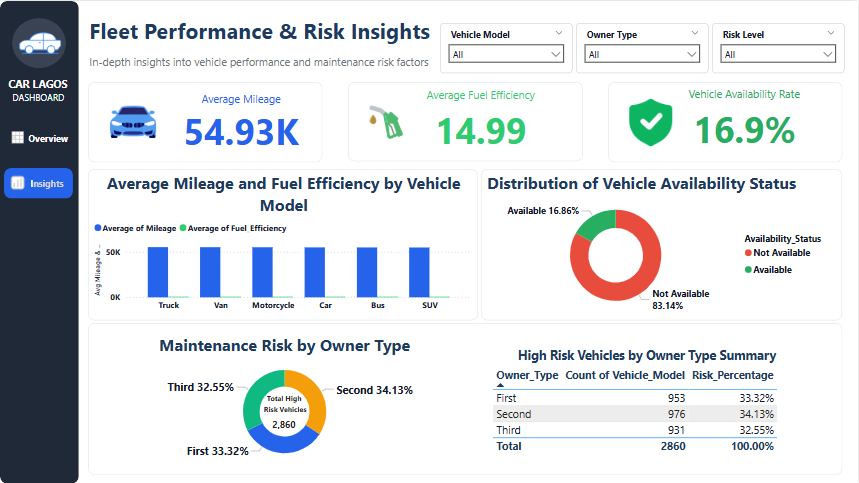

The dashboard page shown, as its layout file describes it:
{"tool":"powerbi","page":{"name":"Page 2","canvas":[1280,720],"ordinal":1},"visuals":[{"type":"shape","box":[0,0,117.6,720],"z":0,"group":"g1"},{"type":"clusteredColumnChart","title":"Average Mileage and Fuel Efficiency by Vehicle Model","fields":{"Category":["car_rental vw_vehicle_base.Vehicle_Model"],"Y":["Avg(car_rental vw_vehicle_base.Mileage)","Avg(car_rental vw_vehicle_base.Fuel_Efficiency)"]},"box":[131.6,250.1,582,225.5],"z":0},{"type":"textbox","box":[376.4,576.9,99.1,47.7],"z":0,"group":"g10"},{"type":"group","id":"g1","title":"Group 10","box":[0,0,117.6,720],"z":1000},{"type":"group","id":"g2","title":"Group 3","box":[7.3,107.3,104.3,55.8],"z":1000,"group":"g1"},{"type":"textbox","box":[375.8,617.2,94.9,35.3],"z":1000,"group":"g10"},{"type":"textbox","box":[127.8,16.2,529,70.5],"z":2000},{"type":"group","id":"g3","title":"Group 7","box":[6.1,190.2,105.3,105.8],"z":2000,"group":"g1"},{"type":"textbox","box":[127.8,74.9,529,32.3],"z":3000},{"type":"group","id":"g4","title":"Group 8","box":[9.9,255.7,98.4,33.8],"z":3000,"group":"g1"},{"type":"group","id":"g5","title":"Group 9","box":[17.6,25,82.3,76.4],"z":4000,"group":"g1"},{"type":"slicer","fields":{"Values":["car_rental vw_vehicle_base.Vehicle_Model"]},"box":[656.8,32.3,198.4,74.9],"z":4000},{"type":"slicer","fields":{"Values":["car_rental vw_vehicle_base.Owner_Type"]},"box":[859.6,32.3,198.4,74.9],"z":5000},{"type":"slicer","fields":{"Values":["car_rental vw_vehicle_base.Maintenance_Due"]},"box":[1062.4,32.3,198.4,74.9],"z":6000},{"type":"group","id":"g6","title":"Group 2","box":[131.6,480,1126.3,227],"z":7000},{"type":"group","id":"g7","title":"Group 2","box":[519.4,120.9,349.3,119.4],"z":8000},{"type":"shape","box":[131.6,121.4,350,120],"z":9000,"group":"g9"},{"type":"group","id":"g8","title":"Group 4","box":[908,121.4,349.9,120],"z":9000},{"type":"shape","box":[131.6,480,1126.3,227],"z":9000,"group":"g6"},{"type":"donutChart","title":"Maintenance Risk by Owner Type","fields":{"Category":["car_rental vw_vehicle_base.Owner_Type"],"Y":["CountNonNull(car_rental vw_vehicle_base.Vehicle_Model)"]},"box":[143.1,495.9,563.1,199.5],"z":9500,"group":"g6"},{"type":"group","id":"g9","title":"Group 5","box":[131.6,121.4,350,120],"z":10000},{"type":"card","title":"Average Mileage","fields":{"Values":["car_rental vw_avg_mileage_fuel_efficiency.kpi_avg_mileage"]},"box":[247.9,136.7,224.1,91.1],"z":10000,"group":"g9"},{"type":"tableEx","title":"High Risk Vehicles by Owner Type Summary","fields":{"Values":["car_rental vw_vehicle_base.Owner_Type","car_rental vw_vehicle_base.Vehicle_Model","car_rental vw_avg_mileage_fuel_efficiency.Risk_Percentage"]},"box":[730.8,516.1,471.3,166.3],"z":10000,"group":"g6"},{"type":"donutChart","title":"Distribution of Vehicle Availability Status","fields":{"Category":["car_rental vw_vehicle_base.Availability_Status"],"Y":["CountNonNull(car_rental vw_vehicle_base.Vehicle_Model)"]},"box":[718.6,250.1,539.3,225.5],"z":10001},{"type":"group","id":"g10","title":"Group 1","box":[375.8,576.9,99.7,75.5],"z":10503,"group":"g6"},{"type":"image","box":[146,141.2,105,80.5],"z":11000,"group":"g9"},{"type":"textbox","box":[7.3,107.3,101.4,36.7],"z":13501,"group":"g2"},{"type":"shape","box":[17.6,25,80.8,74.9],"z":14000,"group":"g5"},{"type":"textbox","box":[13.2,129.3,98.4,33.8],"z":14002,"group":"g2"},{"type":"shape","box":[908,121.4,350,120],"z":15000,"group":"g8"},{"type":"shape","box":[519.4,120.9,350.7,118.5],"z":16000,"group":"g7"},{"type":"card","title":"Vehicle Availability Rate","fields":{"Values":["car_rental vw_avg_mileage_fuel_efficiency.kpi_fleet_availability_rate"]},"box":[1005.8,128.7,209.6,101.4],"z":16000,"group":"g8"},{"type":"shape","box":[6.1,250.4,102.9,45.6],"z":16000,"group":"g3"},{"type":"image","box":[7.8,190.2,37.9,27.5],"z":16002,"group":"g11"},{"type":"image","box":[926.7,135.2,89.3,93.8],"z":16501,"group":"g8"},{"type":"group","id":"g11","title":"Group 6","box":[7.8,190.2,103.5,30],"z":17000,"group":"g3"},{"type":"textbox","box":[37,191.4,74.4,28.8],"z":17002,"group":"g11"},{"type":"card","title":"Average Fuel Efficiency","fields":{"Values":["car_rental vw_avg_mileage_fuel_efficiency.kpi_avg_fuel_efficiency"]},"box":[612,130.4,210.9,102.2],"z":17500,"group":"g7"},{"type":"textbox","box":[39.3,259,69.1,30.9],"z":17502,"group":"g4"},{"type":"image","box":[519.4,150.2,114.3,59.6],"z":18000,"group":"g7"},{"type":"image","box":[9.9,255.7,32.3,32.3],"z":18003,"group":"g4"},{"type":"image","box":[19.1,25,80.8,74.9],"z":18005,"group":"g5"}]}

Visuals, with their boxes on the page's 1280x720 design canvas (x1, y1, x2, y2). These are canvas units, not pixel positions in the 859x483 screenshot, which may show the page scaled, cropped or inside an application window:
shape: box=[0, 0, 118, 720]
"Average Mileage and Fuel Efficiency by Vehicle Model" clusteredColumnChart: box=[132, 250, 714, 476]
textbox: box=[376, 577, 476, 625]
"Group 10" group: box=[0, 0, 118, 720]
"Group 3" group: box=[7, 107, 112, 163]
textbox: box=[376, 617, 471, 652]
textbox: box=[128, 16, 657, 87]
"Group 7" group: box=[6, 190, 111, 296]
textbox: box=[128, 75, 657, 107]
"Group 8" group: box=[10, 256, 108, 290]
"Group 9" group: box=[18, 25, 100, 101]
slicer - car_rental vw_vehicle_base.Vehicle_Model: box=[657, 32, 855, 107]
slicer - car_rental vw_vehicle_base.Owner_Type: box=[860, 32, 1058, 107]
slicer - car_rental vw_vehicle_base.Maintenance_Due: box=[1062, 32, 1261, 107]
"Group 2" group: box=[132, 480, 1258, 707]
"Group 2" group: box=[519, 121, 869, 240]
shape: box=[132, 121, 482, 241]
"Group 4" group: box=[908, 121, 1258, 241]
shape: box=[132, 480, 1258, 707]
"Maintenance Risk by Owner Type" donutChart: box=[143, 496, 706, 695]
"Group 5" group: box=[132, 121, 482, 241]
"Average Mileage" card: box=[248, 137, 472, 228]
"High Risk Vehicles by Owner Type Summary" tableEx: box=[731, 516, 1202, 682]
"Distribution of Vehicle Availability Status" donutChart: box=[719, 250, 1258, 476]
"Group 1" group: box=[376, 577, 476, 652]
image: box=[146, 141, 251, 222]
textbox: box=[7, 107, 109, 144]
shape: box=[18, 25, 98, 100]
textbox: box=[13, 129, 112, 163]
shape: box=[908, 121, 1258, 241]
shape: box=[519, 121, 870, 239]
"Vehicle Availability Rate" card: box=[1006, 129, 1215, 230]
shape: box=[6, 250, 109, 296]
image: box=[8, 190, 46, 218]
image: box=[927, 135, 1016, 229]
"Group 6" group: box=[8, 190, 111, 220]
textbox: box=[37, 191, 111, 220]
"Average Fuel Efficiency" card: box=[612, 130, 823, 233]
textbox: box=[39, 259, 108, 290]
image: box=[519, 150, 634, 210]
image: box=[10, 256, 42, 288]
image: box=[19, 25, 100, 100]
